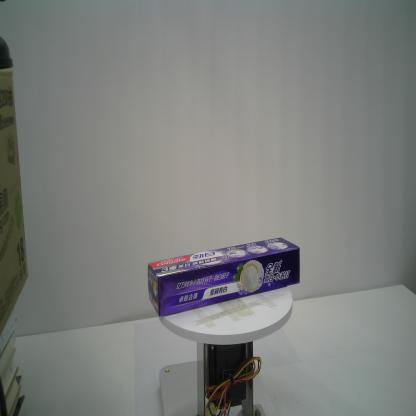Personal Hygiene: (147, 237, 301, 316)
